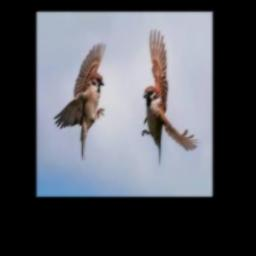Sparrow: (141, 29, 200, 165), (53, 43, 106, 162)
